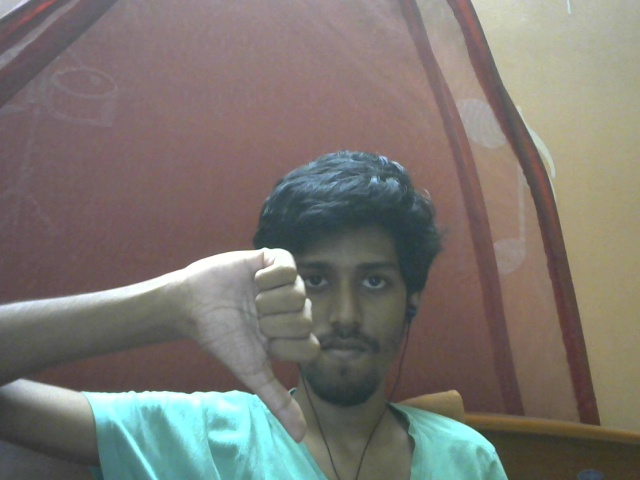ThumbsDown: (181, 246, 322, 443)
